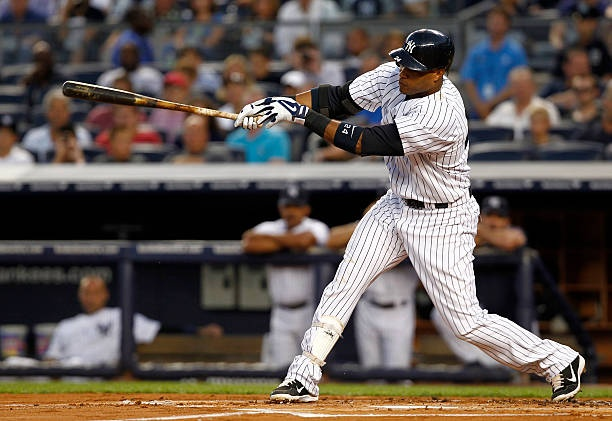bita: (60, 80, 269, 128)
